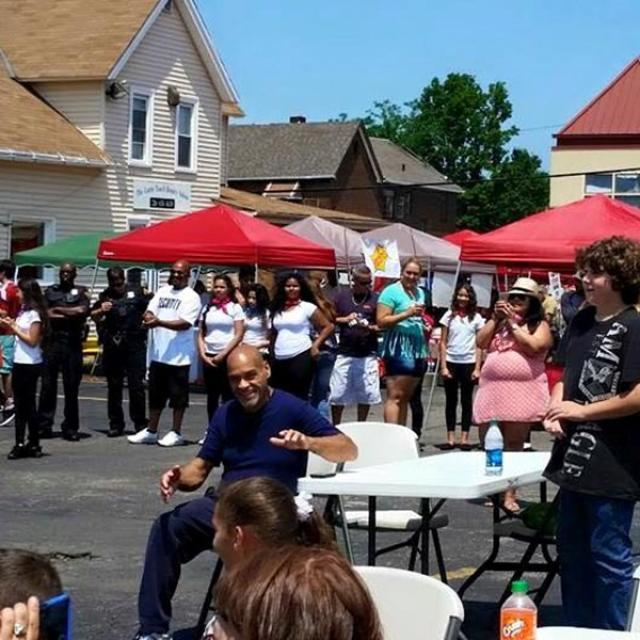body: (130, 337, 363, 639), (533, 228, 639, 639), (0, 547, 403, 640), (471, 276, 556, 513), (124, 257, 204, 447), (88, 261, 154, 443), (35, 259, 90, 443), (374, 255, 432, 427), (210, 474, 304, 580), (0, 271, 52, 461), (329, 262, 386, 427), (266, 271, 336, 403), (436, 278, 486, 452), (197, 272, 246, 446), (304, 277, 339, 411), (410, 284, 437, 442), (0, 257, 21, 412), (531, 262, 577, 328), (238, 280, 273, 360)
